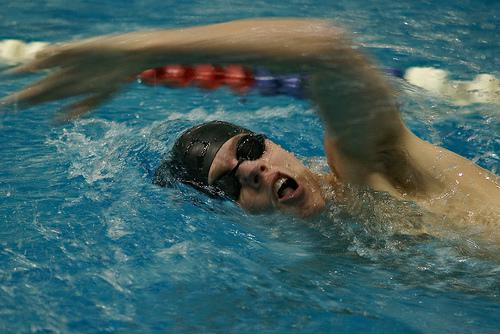swimmer: (13, 18, 500, 266)
